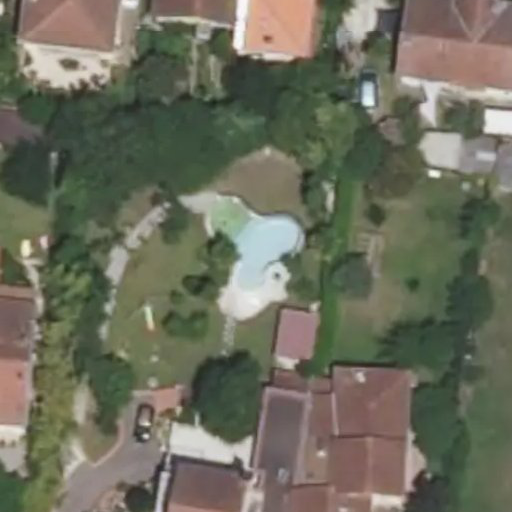pool: (232, 213, 302, 292)
